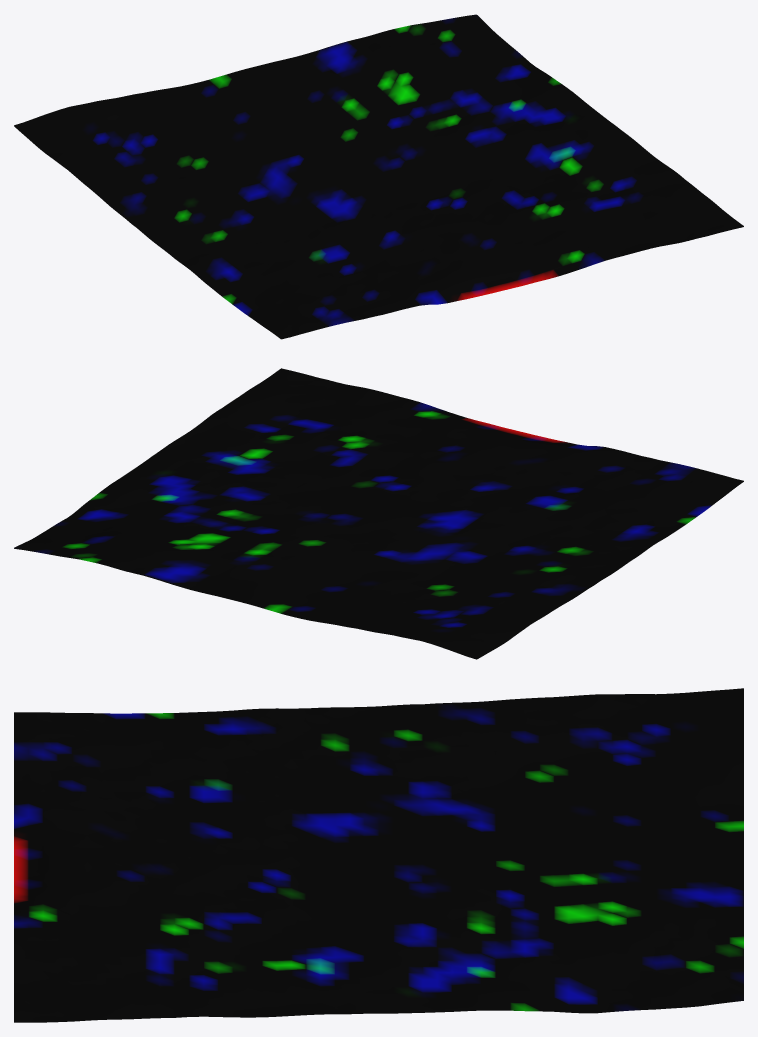
Rendered from coast_1600_-1600_800.glb.
The picture shows the model from 3 angles, top to bottom: view 1: azimuth 30°, elevation 25°; view 2: azimuth 150°, elevation 25°; view 3: azimuth 270°, elevation 25°; orthographic projection. The views are drawn at different scales.
Visible parts, largest first — view 1: terrain; view 2: terrain; view 3: terrain.
Part boxes in pixels (box(x1,y1,x2,y2)): terrain: box(14, 14, 743, 339); terrain: box(14, 368, 743, 659); terrain: box(14, 688, 743, 1022).
Bounding box in the file's own units: 800 × 47.77 × 800.
